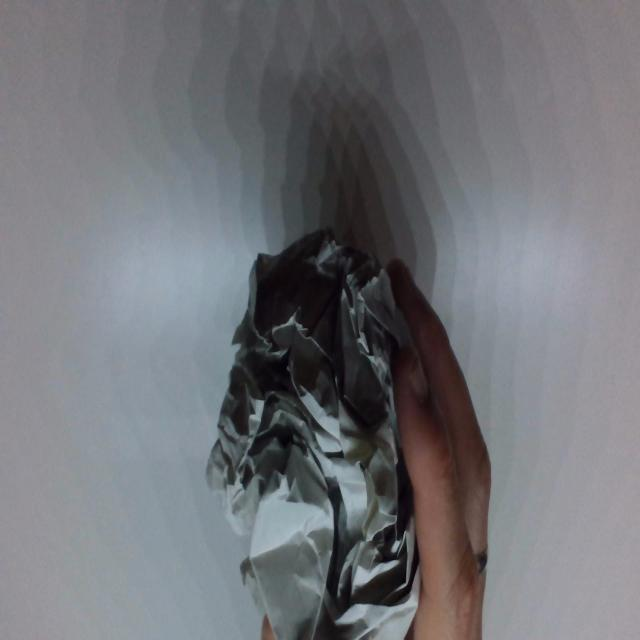Paper: (206, 245, 416, 640)
